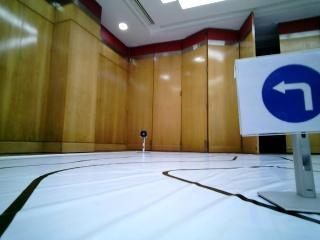left: (236, 62, 320, 128)
